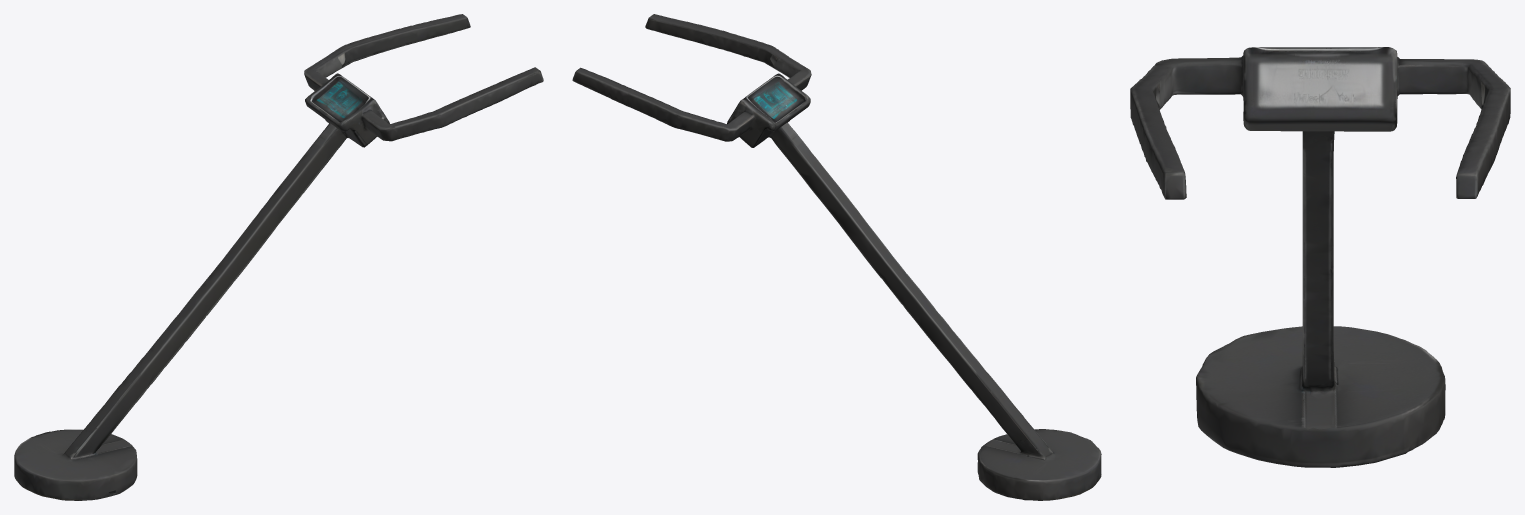
The model's file is detector.fbx.
3 views of the same model, side by side, from view 1: azimuth 30°, elevation 25°; view 2: azimuth 150°, elevation 25°; view 3: azimuth 270°, elevation 25° (orthographic). The views are drawn at different scales.
Parts seen in each view (by area): view 1: Mesh1.0; view 2: Mesh1.0; view 3: Mesh1.0.
Part boxes in pixels (x1,y1,x2,y2): Mesh1.0: [14, 14, 543, 500]; Mesh1.0: [572, 14, 1101, 500]; Mesh1.0: [1130, 47, 1510, 467].
Size of the model in its own units: 200 by 131 by 68.37.
Materials: 1 (1 with a texture image).
